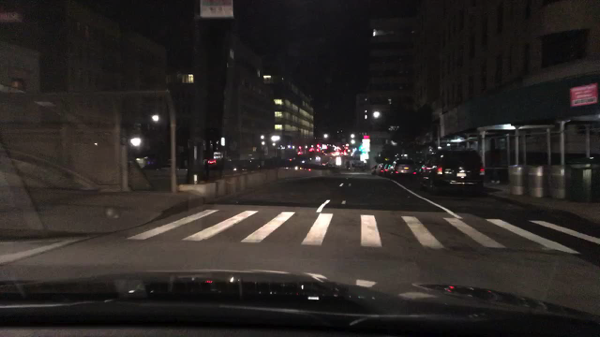car: (418, 149, 485, 197), (394, 158, 417, 181), (232, 159, 262, 173), (136, 153, 161, 169), (206, 156, 224, 169), (279, 159, 299, 170), (370, 165, 381, 176), (385, 164, 393, 177), (380, 163, 387, 176), (323, 162, 335, 169), (345, 165, 351, 172)
traffic light: (316, 143, 320, 148), (298, 146, 301, 151)
traffic sign: (570, 82, 598, 108), (200, 1, 234, 19), (361, 143, 370, 152), (220, 136, 226, 147), (335, 157, 341, 166), (361, 139, 370, 143), (363, 135, 369, 139), (384, 157, 390, 161)
